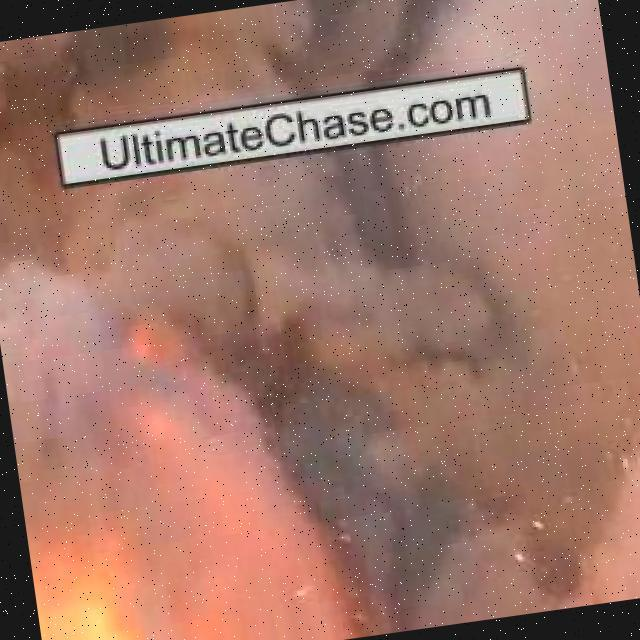Fire: (10, 389, 260, 640), (119, 286, 214, 385)
